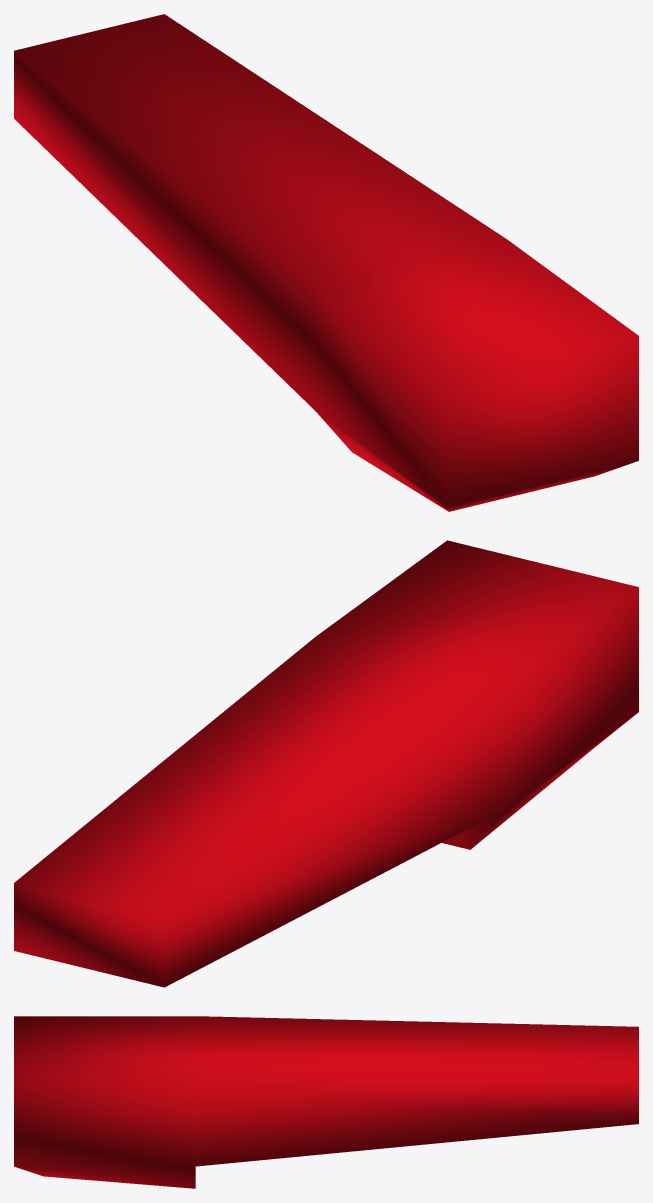
Rendered from frig.fbx.
3 views of the same model, one above another, from view 1: azimuth 30°, elevation 25°; view 2: azimuth 150°, elevation 25°; view 3: azimuth 270°, elevation 25° (orthographic). The views are drawn at different scales.
Visible parts, largest first — view 1: Cube; view 2: Cube; view 3: Cube.
Part boxes in pixels (bbox=[...]): Cube: bbox=[14, 14, 638, 511]; Cube: bbox=[14, 540, 638, 987]; Cube: bbox=[14, 1016, 638, 1188].
Size of the model in its own units: 0.8215 by 0.7171 by 3.37.
